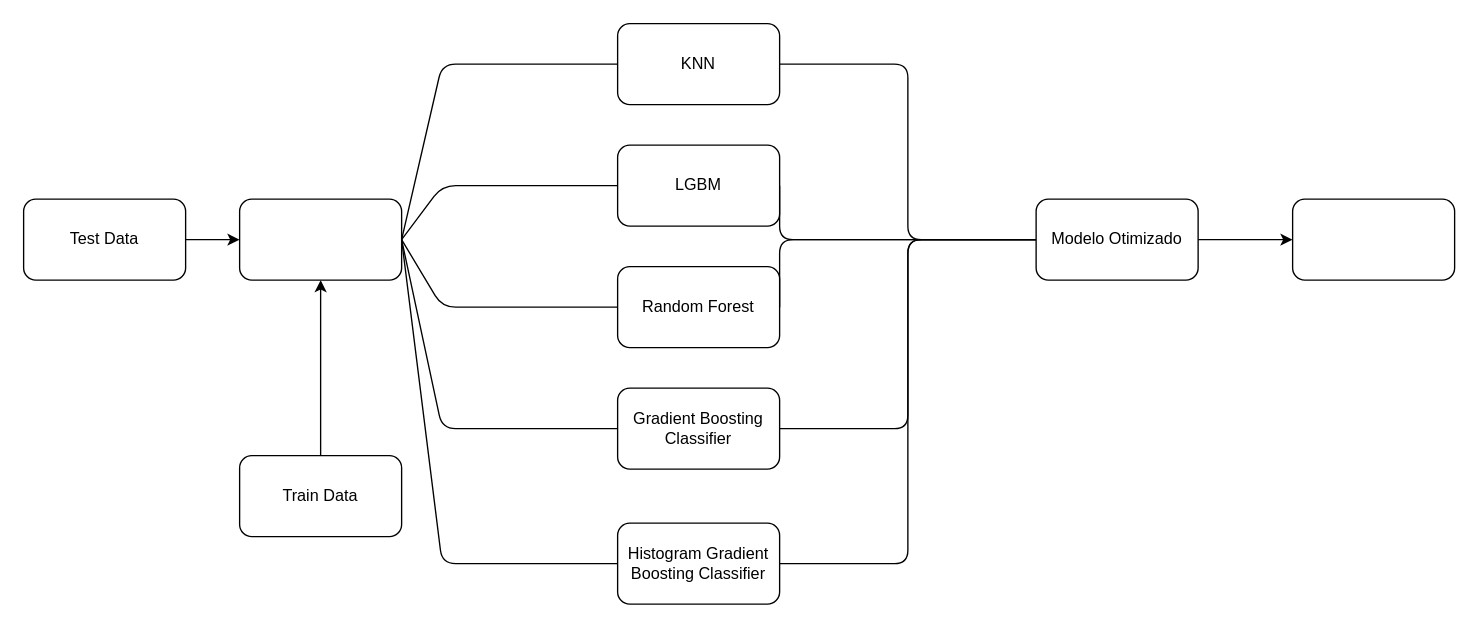
Image size: 1478x628. Some labels were removed from this diagram. Here are the shapes that lost their labels. From the top down, the centre of each, then its label:
At pixel 320 239: "Nearest Neighbor".
At pixel 1373 239: "Train and Predict".
